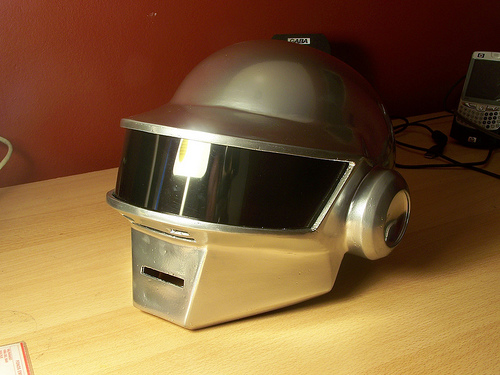helmet: (138, 33, 411, 306)
